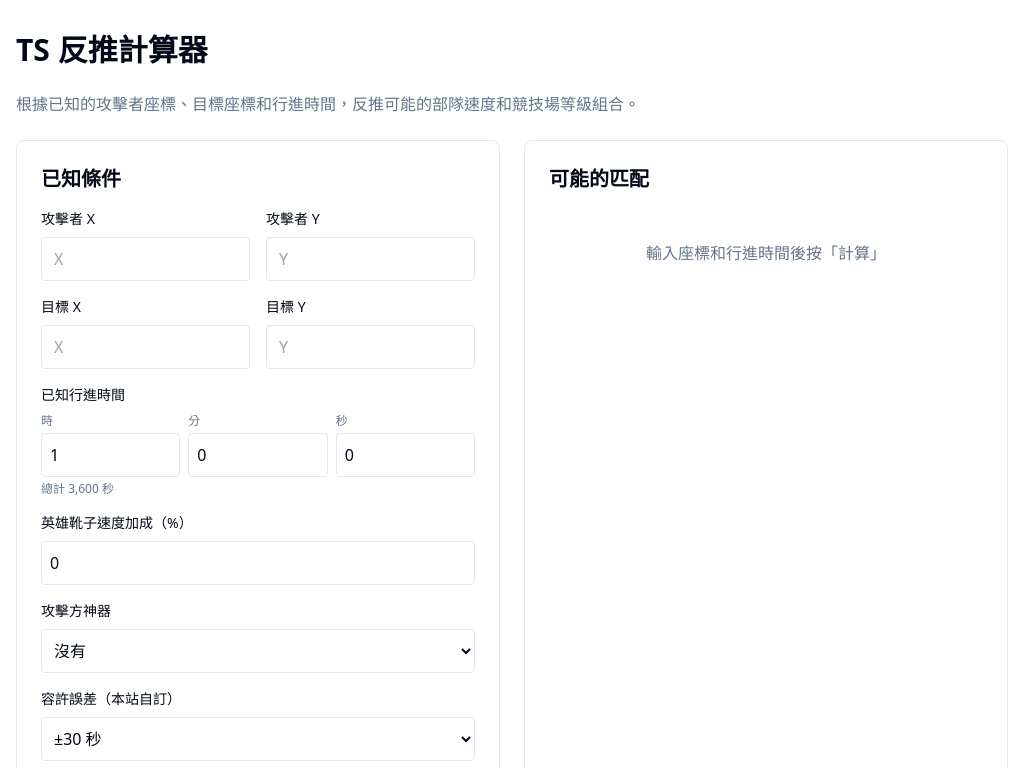
PathSpeedTsCalculatorPage unverified-units-note (P0-15) › no note when the backend reports no unverified units
In the field with test id "attacker-x": (146, 259) [41,237,250,281], type "0"
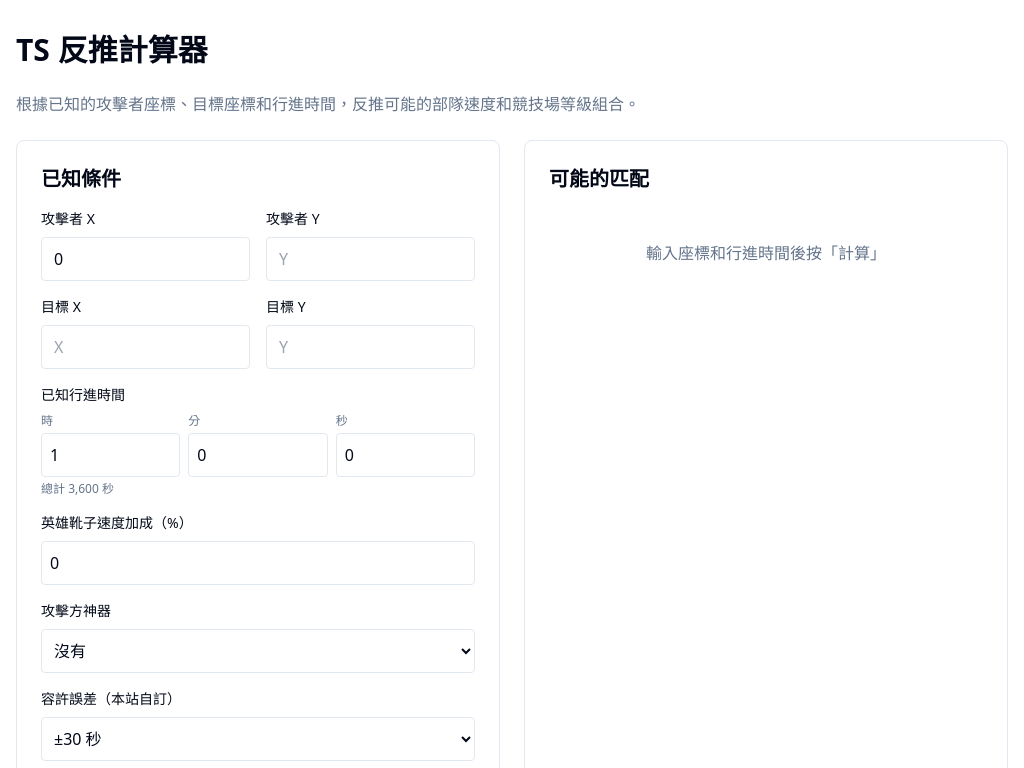
In the field with test id "attacker-y": (370, 259) [266,237,475,281], type "0"
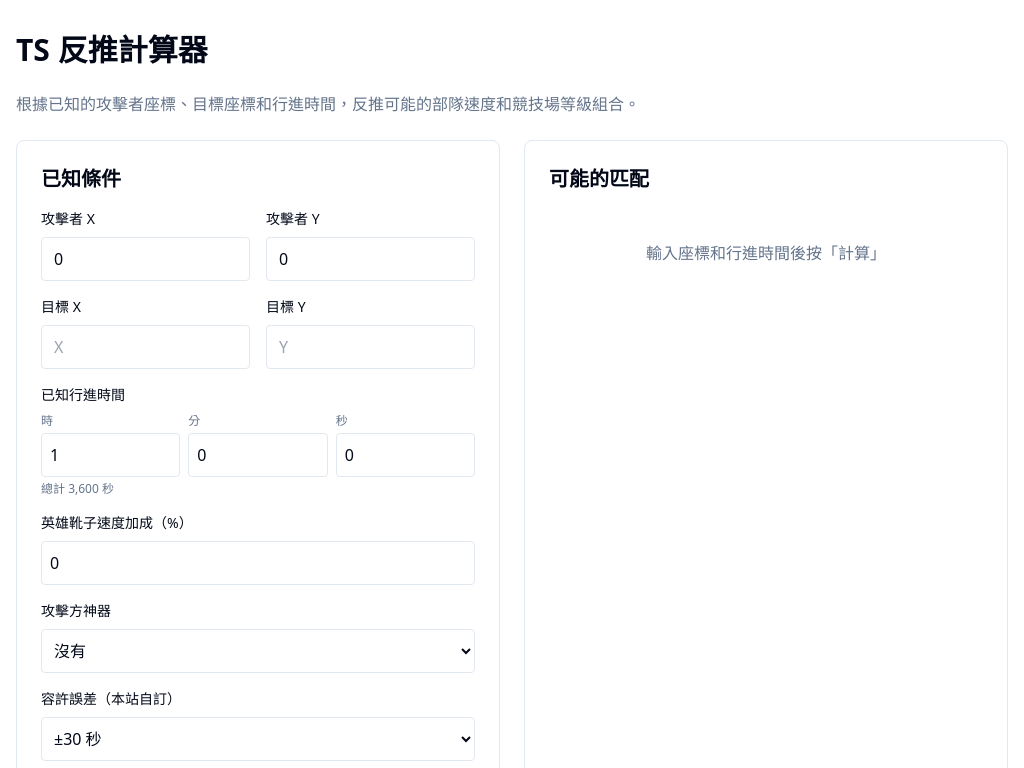
In the field with test id "target-x": (146, 347) [41,325,250,369], type "3"
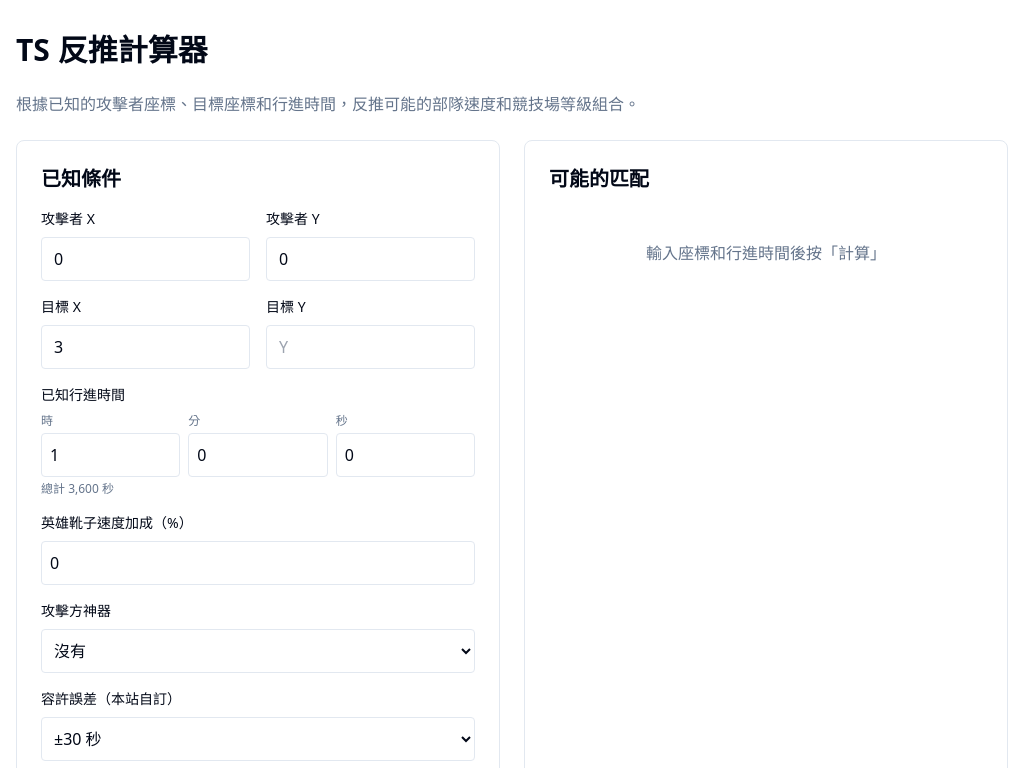
In the field with test id "target-y": (370, 347) [266,325,475,369], type "-5"
(page scrolled)
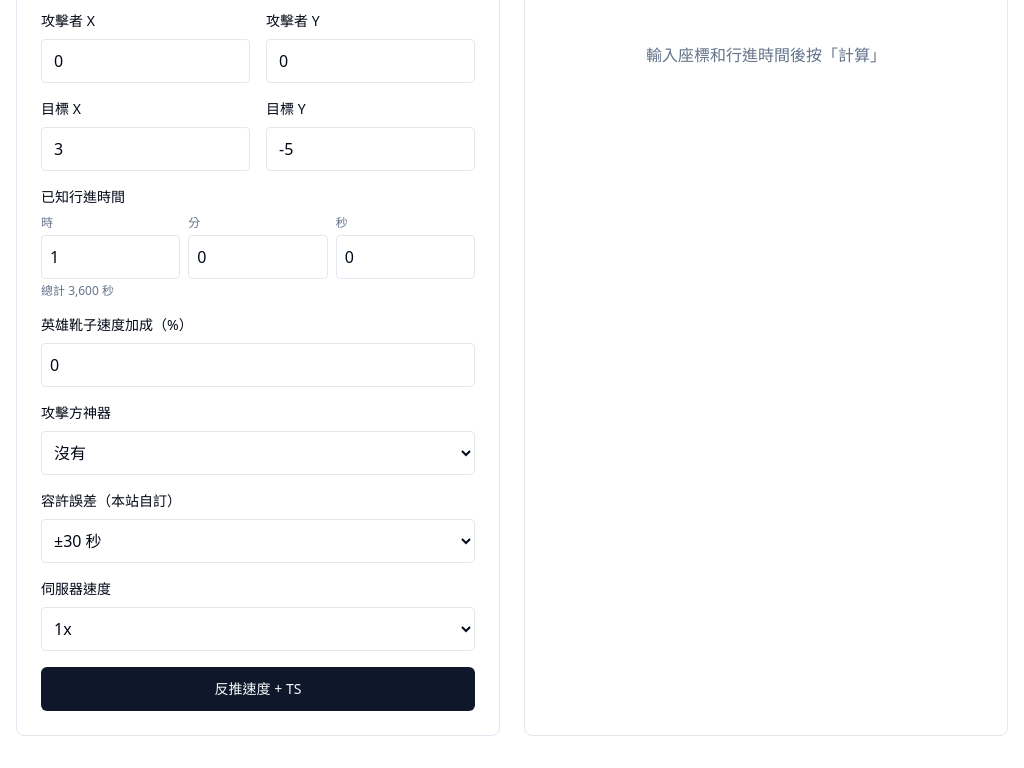
Click the button "反推速度 + TS": click(258, 689) [41,667,475,711]
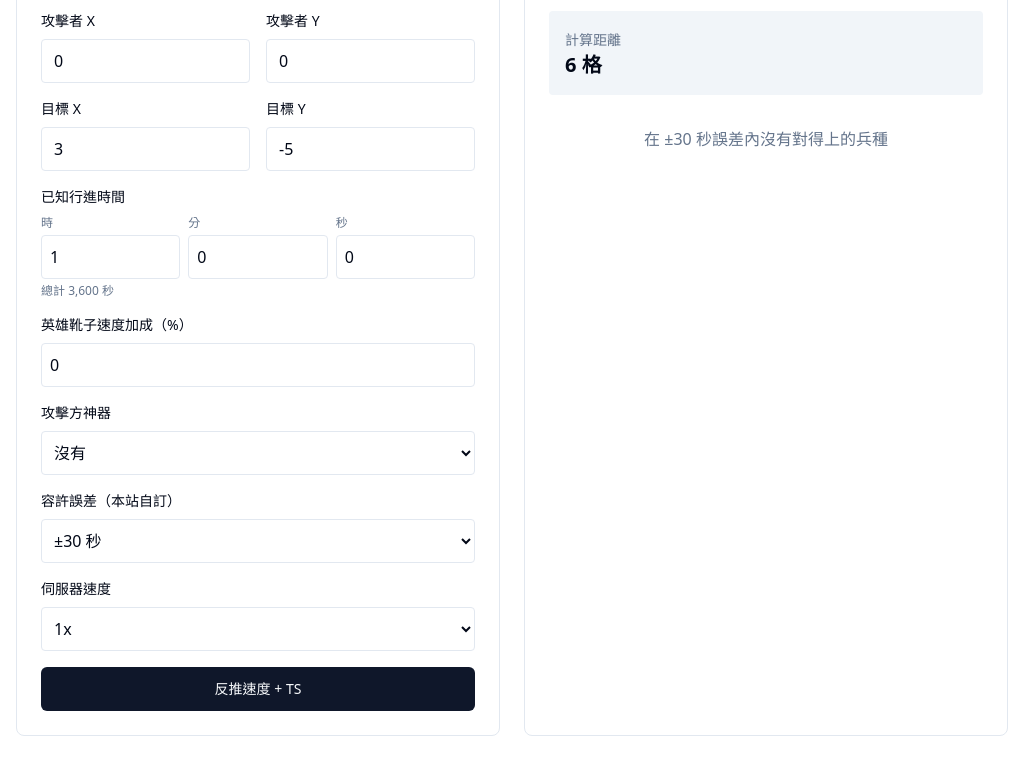
expect the text "在 ±30 秒誤差內沒有對得上的兵種" is shown: met, box [644,128,888,150]
